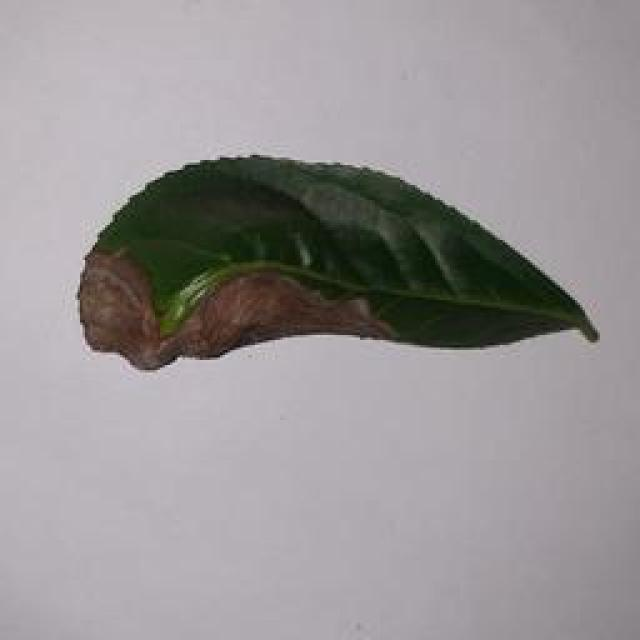Brown Blight: (57, 149, 603, 370)
